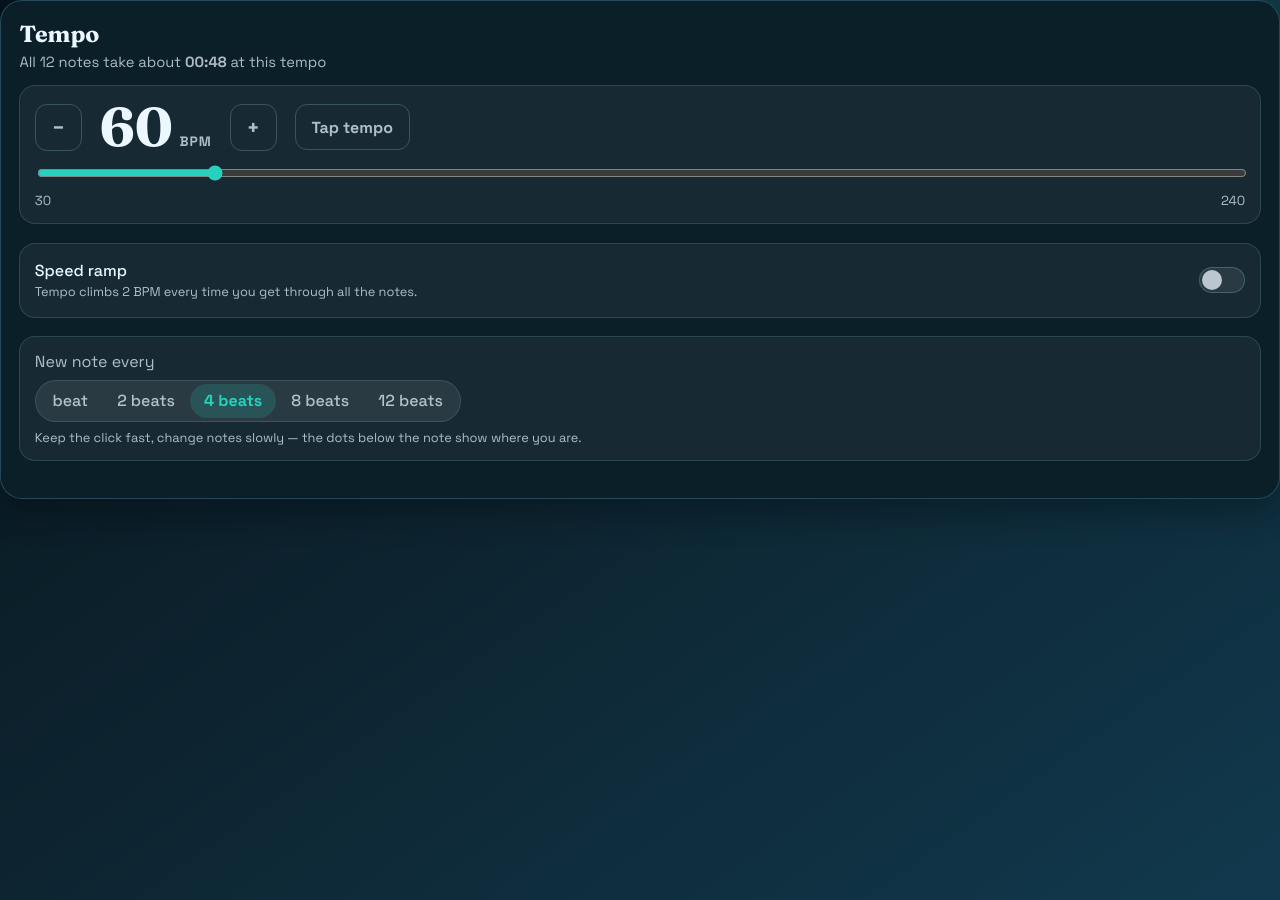
Scenario: TempoCard › tap tempo feedback › shows a keep-tapping state after the first tap, which does not yet produce a tempo
The image size is (1280, 900).
Click the button with test id "tap-tempo": (352, 127) left=294, top=104, right=410, bottom=150
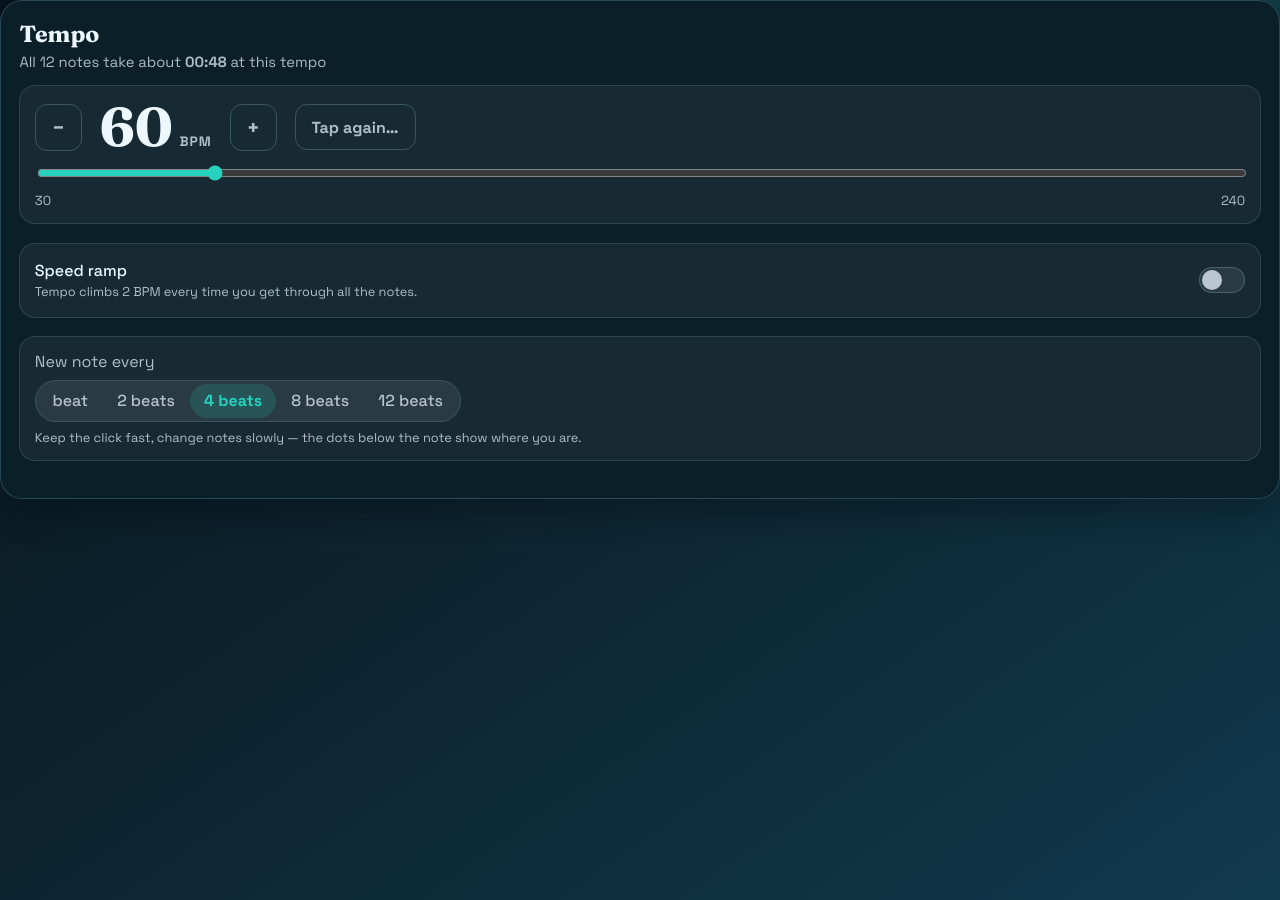
Now the button with test id "tap-tempo" reads "Tap again…", box left=294, top=104, right=416, bottom=150
